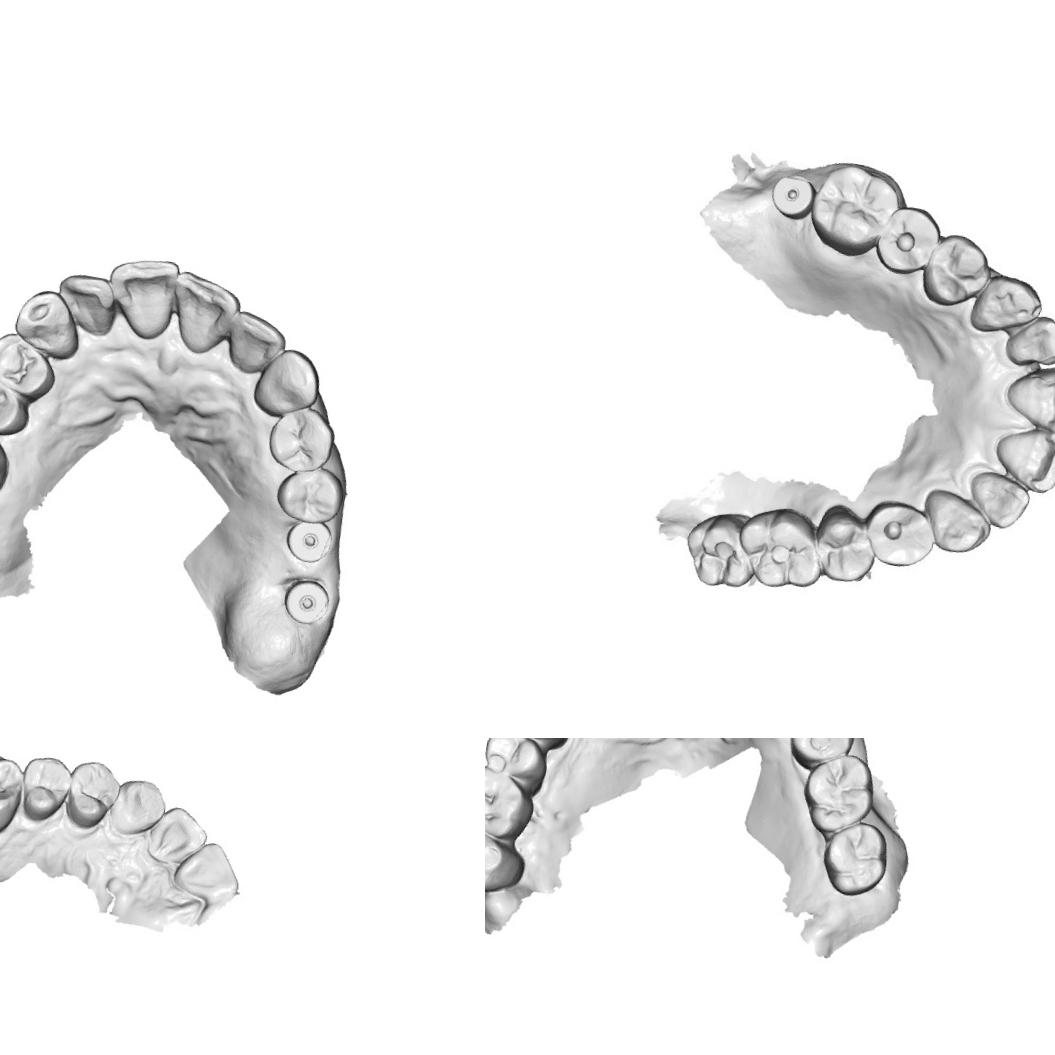canine: (247, 340, 327, 425), (7, 283, 88, 363), (920, 484, 996, 558), (971, 272, 1043, 342), (106, 772, 172, 842)
implant: (276, 572, 334, 628), (766, 167, 821, 226), (283, 516, 336, 566)
incisor: (99, 248, 184, 345), (162, 267, 244, 360), (168, 834, 246, 905), (49, 267, 120, 340), (220, 306, 290, 379), (142, 800, 212, 872), (995, 422, 1055, 492), (966, 467, 1028, 527), (1006, 364, 1055, 430), (1004, 311, 1055, 370)
molar: (794, 745, 882, 843), (809, 162, 899, 254), (735, 504, 827, 592), (816, 814, 894, 902), (681, 508, 762, 592), (485, 760, 541, 844), (485, 819, 531, 898), (0, 744, 29, 841)
premolar: (262, 402, 338, 476), (271, 460, 348, 529), (864, 498, 938, 568), (920, 231, 988, 306), (60, 755, 124, 833), (876, 204, 944, 277), (814, 506, 876, 583), (13, 750, 75, 826), (0, 326, 60, 403), (485, 738, 554, 791), (782, 738, 859, 777), (0, 365, 35, 440)
